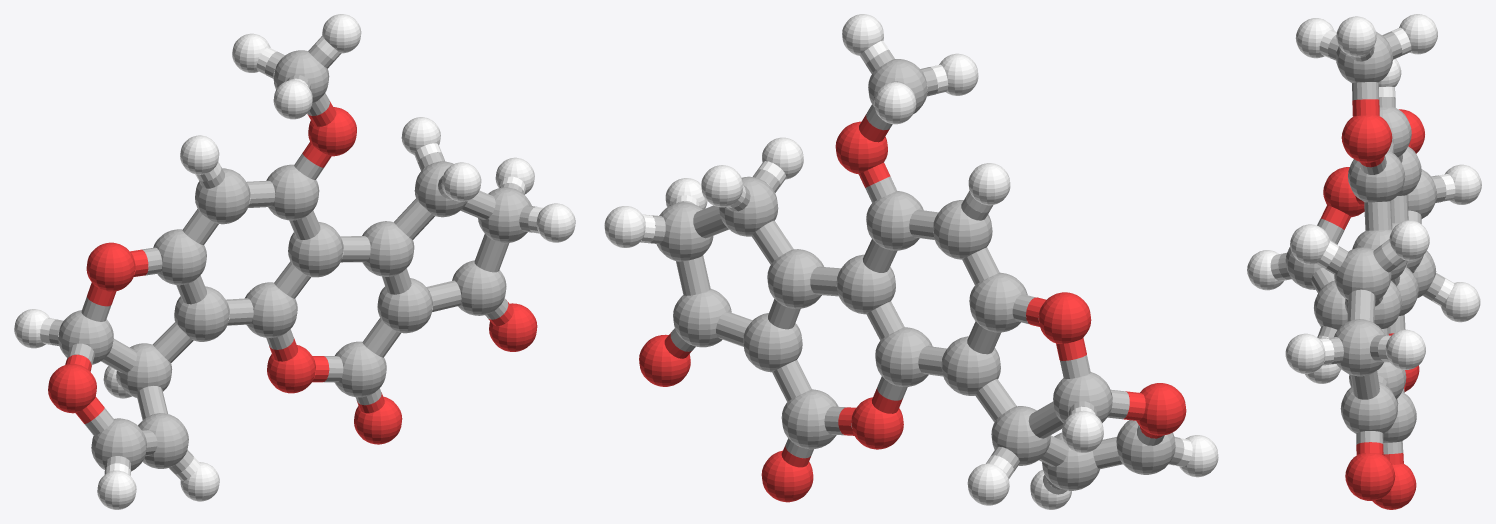
The model's file is aflatoxin.glb.
3 views of the same model, side by side, from view 1: azimuth 30°, elevation 25°; view 2: azimuth 150°, elevation 25°; view 3: azimuth 270°, elevation 25° (orthographic). The views are drawn at different scales.
Visible parts, largest first — view 1: ShapeSphere.011, ShapeSphere.012, ShapeSphere.009, ShapeSphere.015, ShapeSphere.016, ShapeSphere.021, ShapeSphere.018, ShapeSphere.010, ShapeSphere.019, ShapeSphere.007, ShapeSphere.020, ShapeSphere (+35 smaller); view 2: ShapeSphere.015, ShapeSphere.011, ShapeSphere.012, ShapeSphere.009, ShapeSphere.010, ShapeSphere.018, ShapeSphere.016, ShapeSphere.021, ShapeSphere.019, ShapeSphere.007, ShapeSphere, ShapeSphere.017 (+37 smaller); view 3: ShapeSphere.019, ShapeSphere.013, ShapeSphere.003, ShapeSphere.004, ShapeSphere.017, ShapeSphere.016, ShapeSphere.022, ShapeSphere.032, ShapeSphere.029, ShapeSphere.028, ShapeSphere.026, ShapeSphere.025 (+41 smaller).
Boxes of the visible parts, left/top/right/bottom form: ShapeSphere.011: left=153, top=229, right=206, bottom=285; ShapeSphere.012: left=362, top=221, right=414, bottom=276; ShapeSphere.009: left=244, top=282, right=297, bottom=338; ShapeSphere.015: left=377, top=278, right=432, bottom=333; ShapeSphere.016: left=266, top=164, right=319, bottom=220; ShapeSphere.021: left=334, top=341, right=386, bottom=397; ShapeSphere.018: left=195, top=168, right=250, bottom=224; ShapeSphere.010: left=288, top=221, right=343, bottom=277; ShapeSphere.019: left=452, top=260, right=506, bottom=315; ShapeSphere.007: left=174, top=286, right=229, bottom=341; ShapeSphere.020: left=91, top=418, right=146, bottom=471; ShapeSphere: left=86, top=242, right=135, bottom=291; ShapeSphere.015: left=743, top=313, right=802, bottom=372; ShapeSphere.011: left=969, top=272, right=1027, bottom=332; ShapeSphere.012: left=767, top=249, right=823, bottom=308; ShapeSphere.009: left=875, top=327, right=932, bottom=386; ShapeSphere.010: left=836, top=254, right=895, bottom=314; ShapeSphere.018: left=933, top=200, right=992, bottom=259; ShapeSphere.016: left=866, top=191, right=923, bottom=250; ShapeSphere.021: left=781, top=389, right=838, bottom=449; ShapeSphere.019: left=673, top=289, right=731, bottom=347; ShapeSphere.007: left=941, top=336, right=1000, bottom=395; ShapeSphere: left=1038, top=292, right=1091, bottom=343; ShapeSphere.017: left=655, top=202, right=713, bottom=261; ShapeSphere.019: left=1340, top=382, right=1397, bottom=433; ShapeSphere.013: left=1334, top=247, right=1391, bottom=301; ShapeSphere.003: left=1341, top=115, right=1392, bottom=162; ShapeSphere.004: left=1345, top=453, right=1395, bottom=500; ShapeSphere.017: left=1334, top=319, right=1384, bottom=376; ShapeSphere.016: left=1348, top=150, right=1405, bottom=202; ShapeSphere.022: left=1336, top=31, right=1393, bottom=82; ShapeSphere.032: left=1336, top=16, right=1376, bottom=56; ShapeSphere.029: left=1385, top=329, right=1425, bottom=369; ShapeSphere.028: left=1285, top=333, right=1325, bottom=373; ShapeSphere.026: left=1389, top=220, right=1429, bottom=260; ShapeSphere.025: left=1290, top=224, right=1329, bottom=264.
Size of the model in its own units: 10.71 by 9.08 by 4.18.
